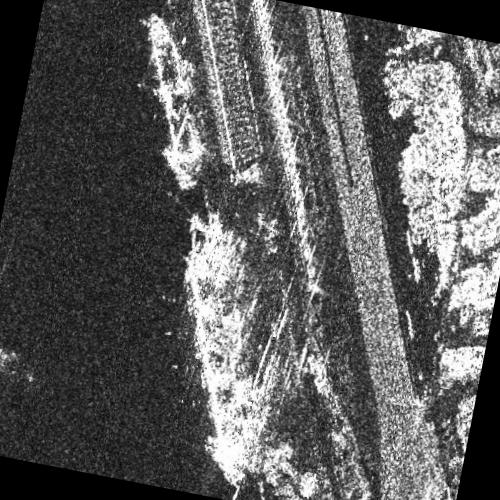ship: (183, 214, 262, 487), (147, 11, 203, 192)
